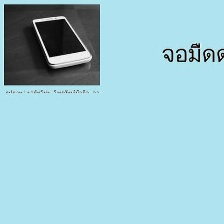phone: (28, 10, 93, 71)
